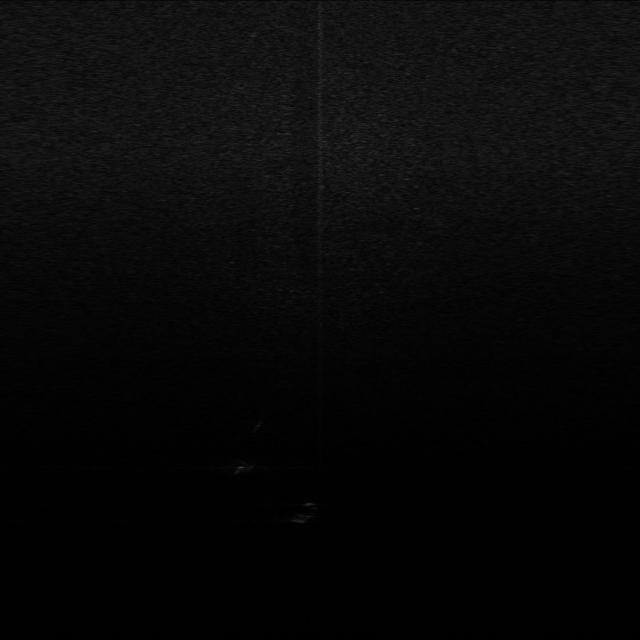circle cage: (232, 455, 260, 482)
tyre: (288, 494, 323, 526)
